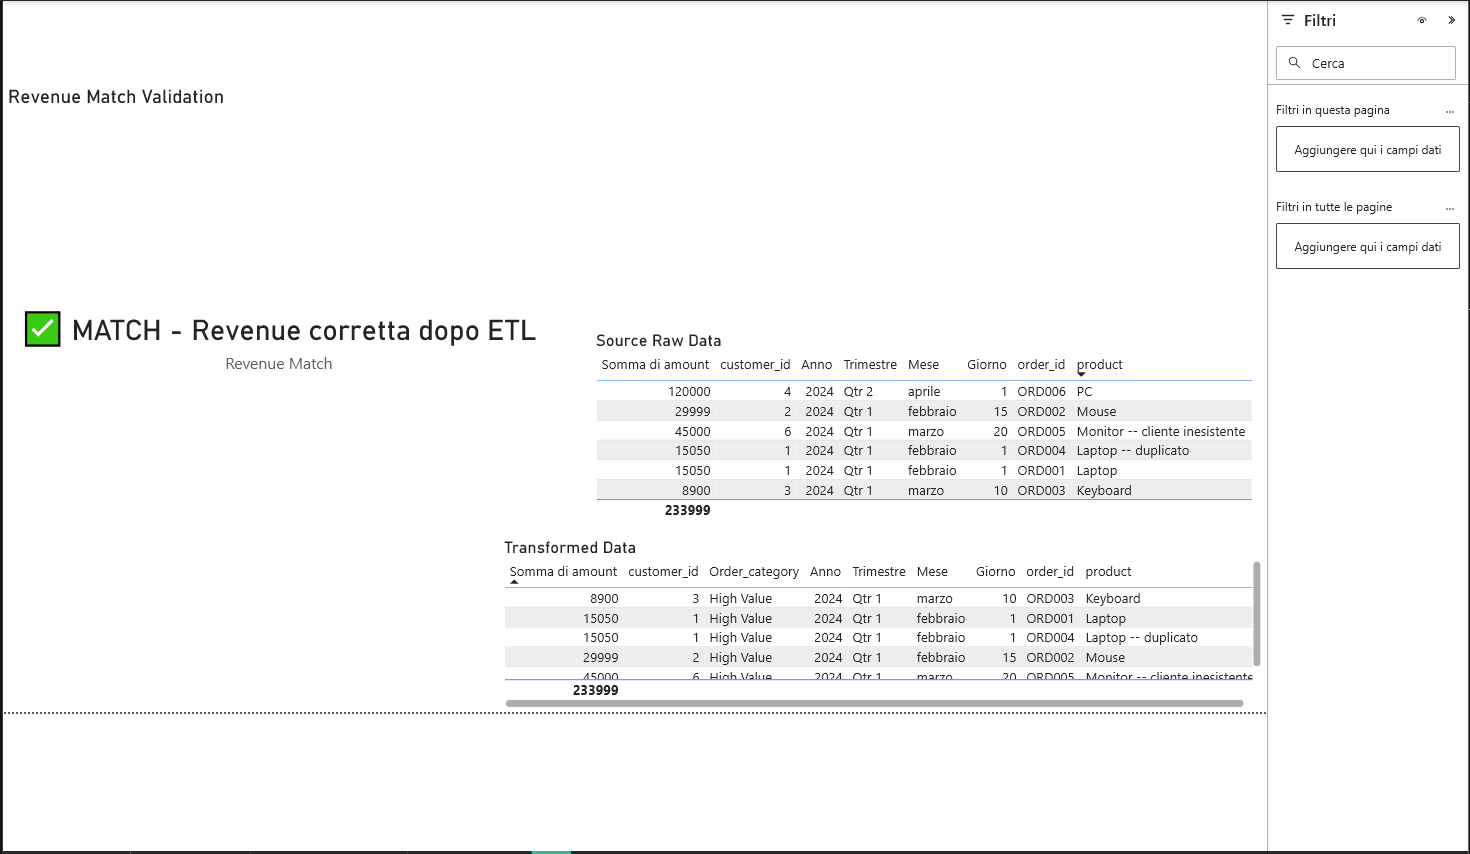

This screenshot's page, from the dashboard's own definition file:
{"tool":"powerbi","page":{"name":"Data Validation","canvas":[1280,720],"ordinal":2},"visuals":[{"type":"card","title":"Revenue Match Validation","fields":{"Values":["source_customers.Revenue Match"]},"box":[0,84.7,558.7,492.3],"z":0},{"type":"tableEx","title":"Source Raw Data","fields":{"Values":["Sum(source_orders.amount)","source_orders.customer_id","source_orders.order_date.Variazione.Gerarchia data.Anno","source_orders.order_date.Variazione.Gerarchia data.Trimestre","source_orders.order_date.Variazione.Gerarchia data.Mese","source_orders.order_date.Variazione.Gerarchia data.Giorno","source_orders.order_id","source_orders.product"]},"box":[595.4,319,684.6,209.6],"z":1},{"type":"tableEx","title":"Transformed Data","fields":{"Values":["Sum(transformed_orders.amount)","transformed_orders.customer_id","transformed_orders.Order_category","transformed_orders.order_date.Variazione.Gerarchia data.Anno","transformed_orders.order_date.Variazione.Gerarchia data.Trimestre","transformed_orders.order_date.Variazione.Gerarchia data.Mese","transformed_orders.order_date.Variazione.Gerarchia data.Giorno","transformed_orders.order_id","transformed_orders.product"]},"box":[502.3,521.5,777.7,199.5],"z":2}]}

Visuals, with their boxes on the page's 1280x720 design canvas (x1, y1, x2, y2). These are canvas units, not pixel positions in the 1470x854 screenshot, which may show the page scaled, cropped or inside an application window:
"Revenue Match Validation" card: (0,85,559,577)
"Source Raw Data" tableEx: (595,319,1280,529)
"Transformed Data" tableEx: (502,522,1280,721)
